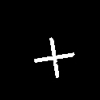single_crochet: (34, 38, 74, 77)
